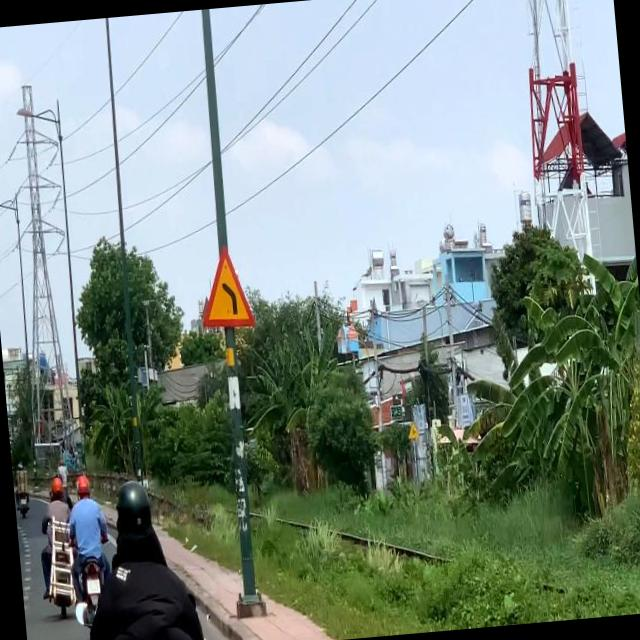W-201a: (198, 242, 253, 330)
